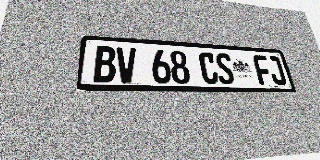6: (151, 49, 172, 84)
8: (169, 50, 190, 84)
B: (93, 45, 116, 83)
C: (198, 52, 219, 84)
F: (252, 55, 274, 85)
J: (266, 56, 287, 85)
S: (214, 53, 236, 85)
V: (116, 47, 137, 83)
